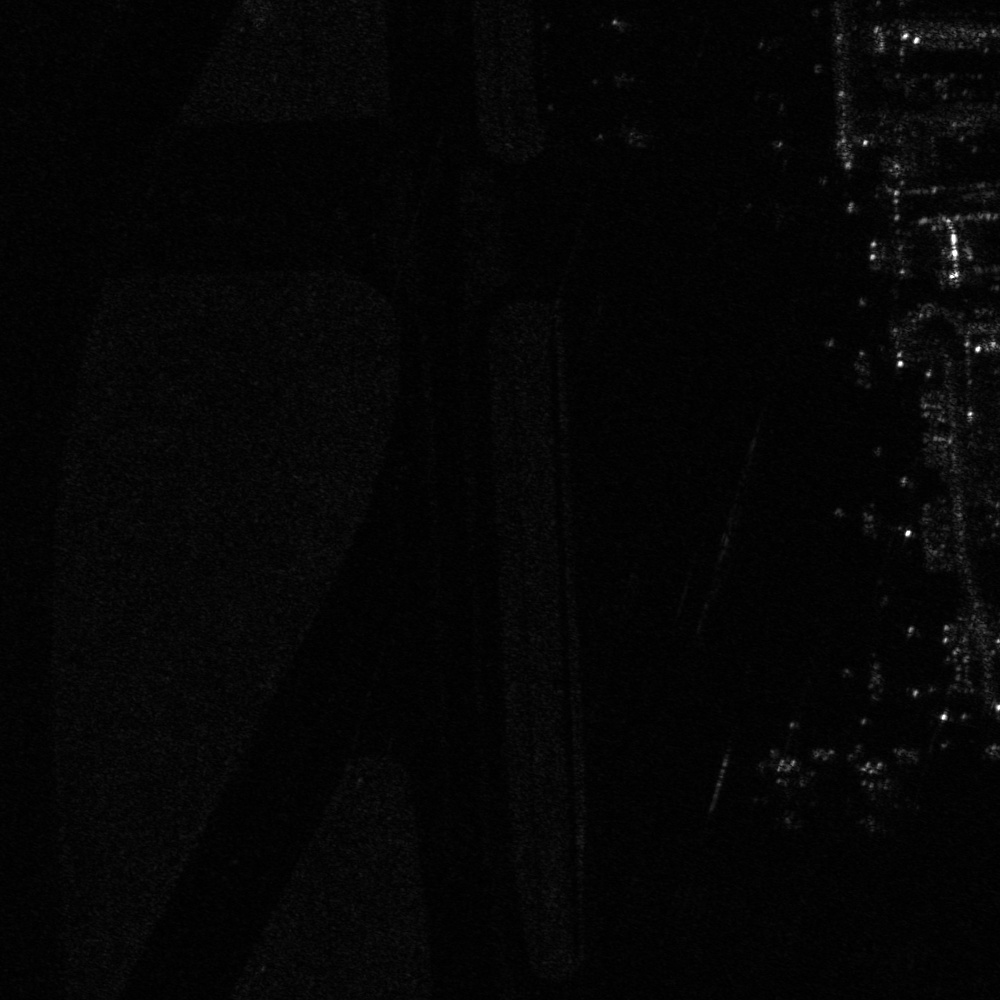A320/321: (744, 751, 823, 834)
ARJ21: (597, 4, 648, 41)
Boeing737: (828, 751, 931, 841)
other: (585, 59, 645, 99), (591, 114, 654, 152)
